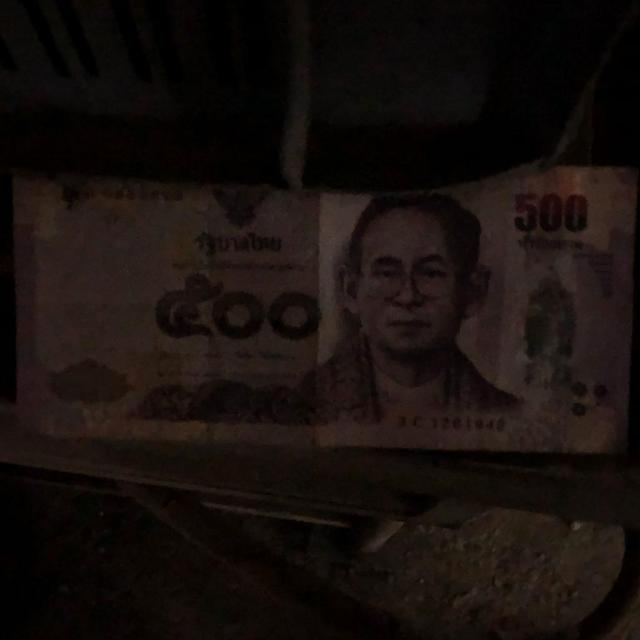THAI500: (14, 165, 638, 453)
